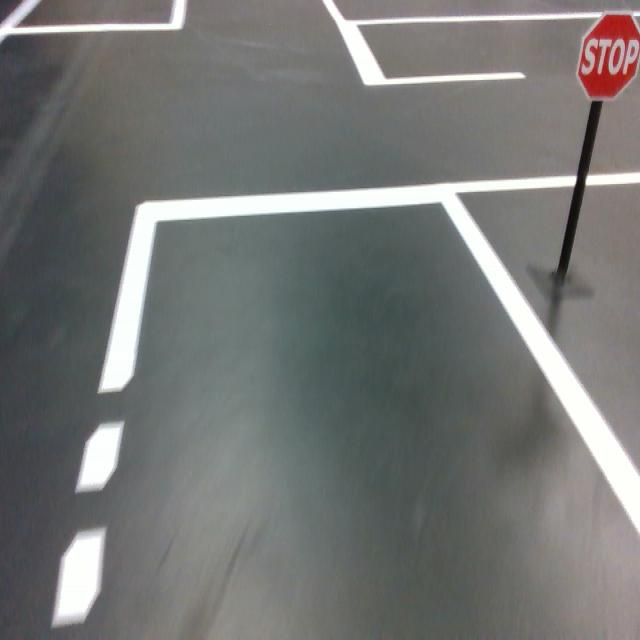stop-sign: (574, 9, 640, 102)
